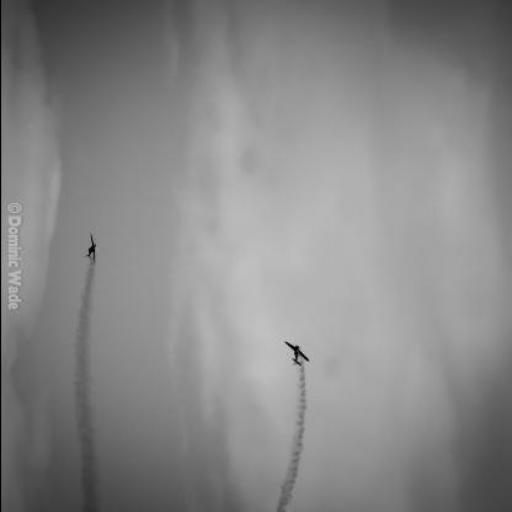aircraft: (281, 332, 316, 367), (79, 225, 103, 265)
